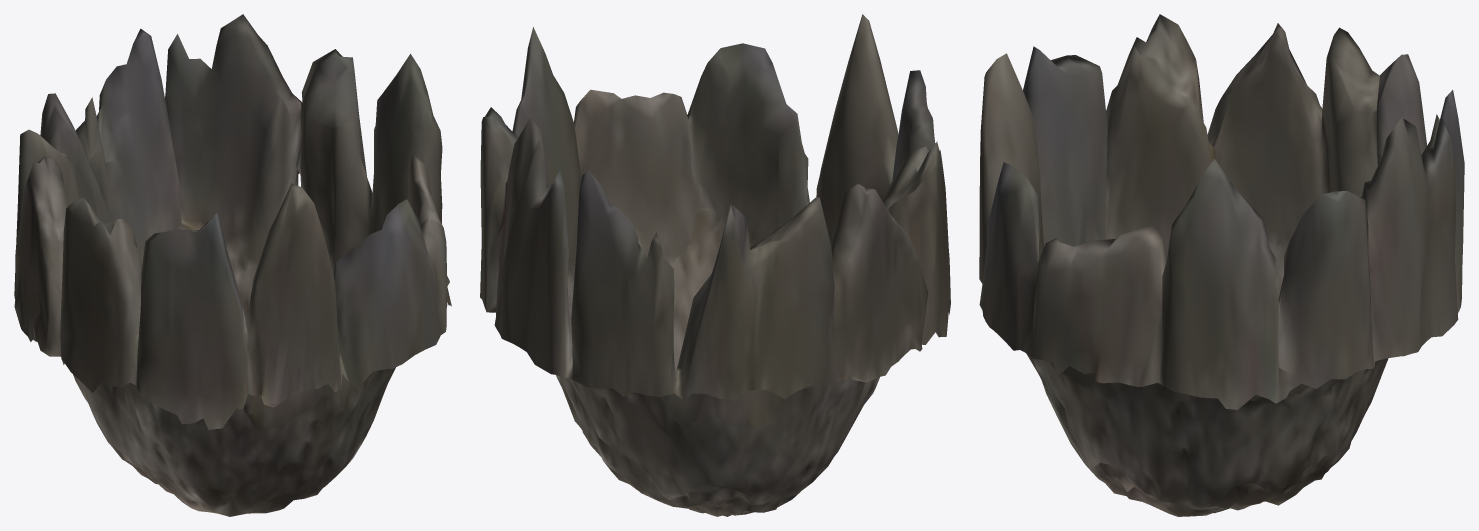
The model's file is ph-stone-fire-pit.glb.
The picture shows the model from 3 angles, left to right: view 1: azimuth 30°, elevation 25°; view 2: azimuth 150°, elevation 25°; view 3: azimuth 270°, elevation 25°; orthographic projection. The views are drawn at different scales.
Visible parts, largest first — view 1: stone_fire_pit; view 2: stone_fire_pit; view 3: stone_fire_pit.
Part boxes in pixels (box(x1,y1,x2,y2)): stone_fire_pit: box(14, 14, 451, 516); stone_fire_pit: box(480, 14, 950, 516); stone_fire_pit: box(979, 14, 1464, 516).
Bounding box in the file's own units: 1 × 1 × 1.
1 material, 1 textured.
